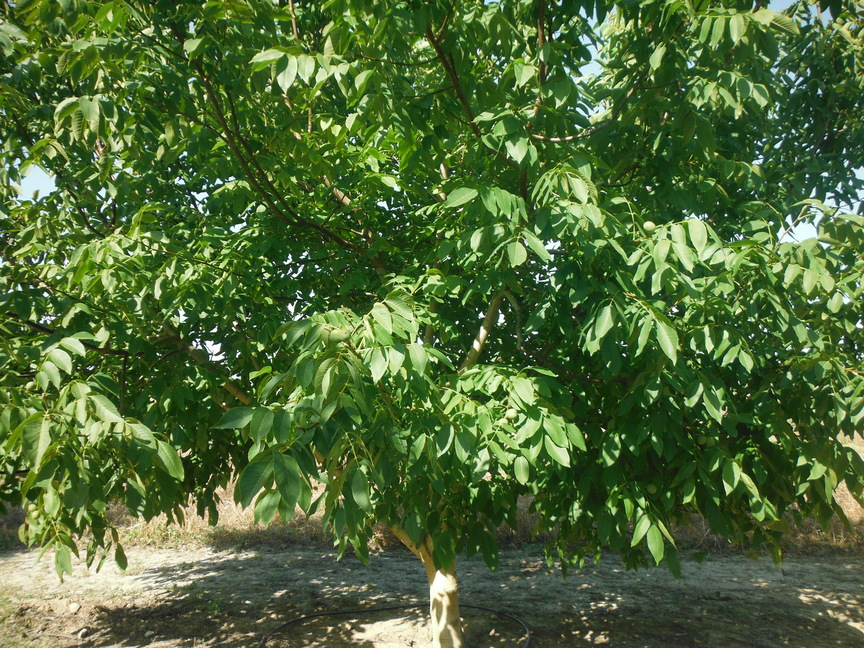walnut: (338, 326, 354, 343), (327, 327, 343, 344), (642, 219, 658, 234), (24, 376, 36, 395), (41, 129, 57, 143), (646, 481, 660, 496), (505, 408, 520, 420), (497, 416, 510, 429), (98, 80, 110, 94), (111, 81, 123, 94), (479, 168, 491, 181), (695, 434, 708, 446), (706, 435, 718, 448), (24, 502, 38, 513), (185, 212, 197, 224), (30, 509, 42, 520), (449, 483, 460, 495), (768, 181, 779, 192), (335, 341, 346, 350)
